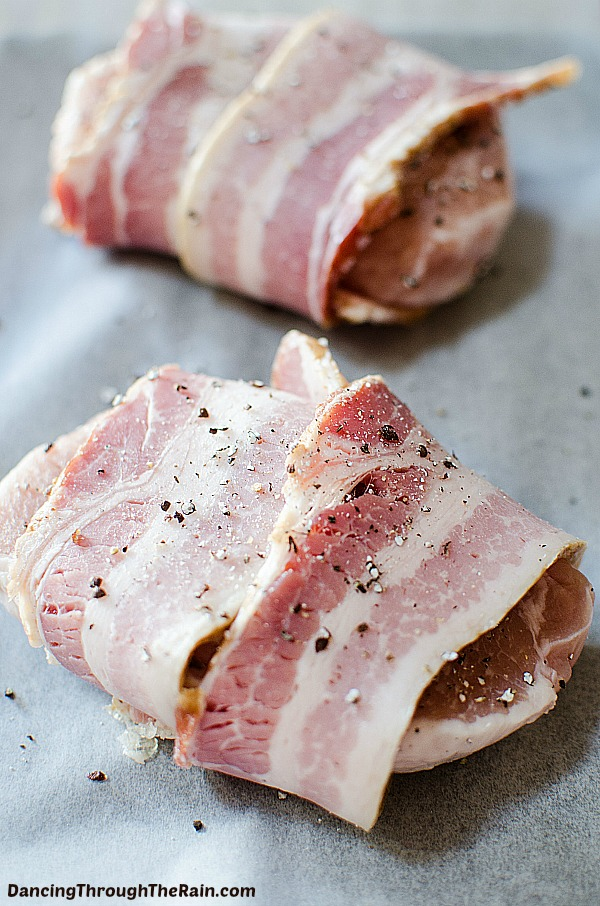bacon: (36, 392, 582, 810), (44, 5, 547, 328)
